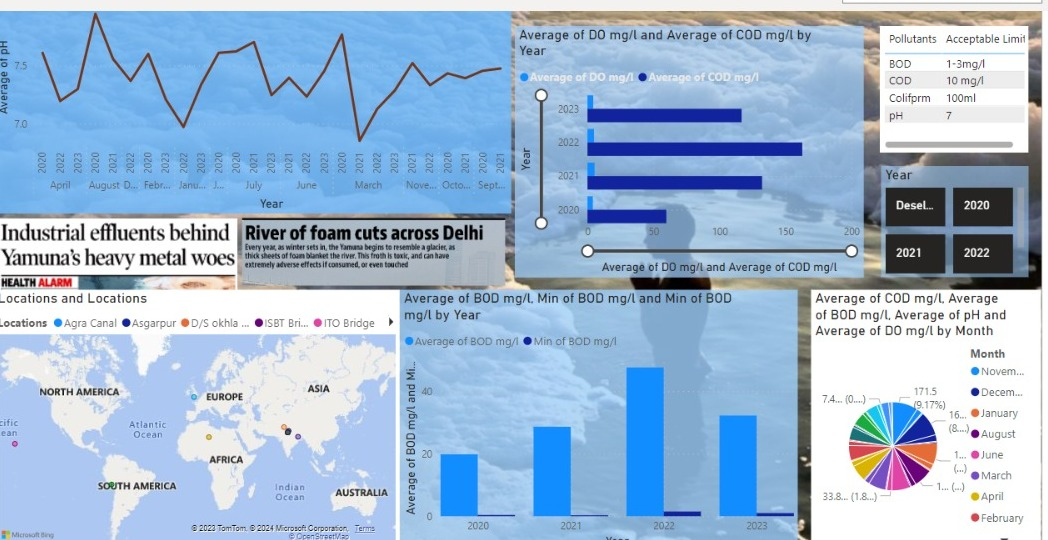

The dashboard page shown, as its layout file describes it:
{"tool":"powerbi","page":{"name":"Page 3","canvas":[1280,720],"ordinal":2},"visuals":[{"type":"image","box":[10.6,300,300,151.5],"z":0},{"type":"lineChart","fields":{"Y":["Avg(Dec.pH)"],"Category":["Dec.Month","Dec.Year"]},"box":[9.1,15.2,628.8,284.8],"z":1000},{"type":"clusteredColumnChart","fields":{"Y":["Avg(Dec.BOD mg/l)","Min(Dec.BOD mg/l)1","Min(Dec.BOD mg/l)1"],"Category":["Dec.Year"]},"box":[503,392,482,317],"z":2000},{"type":"tableEx","fields":{"Values":["Sheet3.Pollutants","Sheet3.Acceptable Limits"]},"box":[1084.8,72.7,180.3,153],"z":3000},{"type":"clusteredBarChart","fields":{"Category":["Dec.Year"],"Y":["Avg(Dec.DO mg/l)","Avg(Dec.COD mg/l)"]},"box":[642.4,72.7,422.7,304.5],"z":4000},{"type":"pieChart","fields":{"Y":["Avg(Dec.COD mg/l)","Avg(Dec.BOD mg/l)","Avg(Dec.pH)","Avg(Dec.DO mg/l)"],"Category":["Dec.Month","Dec.Year"]},"box":[1001.5,392.4,278.8,316.7],"z":5000},{"type":"advancedSlicerVisual","fields":{"Values":["Dec.Year"]},"box":[1085.7,242.3,178.7,134.8],"z":6000},{"type":"image","box":[304.5,300,333.3,92.4],"z":7000},{"type":"textbox","box":[660.6,15.2,619.7,50],"z":8000},{"type":"map","fields":{"Series":["Dec.Locations"],"Category":["Dec.Locations"]},"box":[10.6,392.2,492.1,316.5],"z":9000}]}

Visuals, with their boxes on the page's 1280x720 design canvas (x1, y1, x2, y2). These are canvas units, not pixel positions in the 1048x540 screenshot, which may show the page scaled, cropped or inside an application window:
image: bbox=[11, 300, 311, 452]
lineChart - Avg(Dec.pH) x Dec.Month: bbox=[9, 15, 638, 300]
clusteredColumnChart - Avg(Dec.BOD mg/l) x Min(Dec.BOD mg/l)1: bbox=[503, 392, 985, 709]
tableEx - Sheet3.Pollutants x Sheet3.Acceptable Limits: bbox=[1085, 73, 1265, 226]
clusteredBarChart - Dec.Year x Avg(Dec.DO mg/l): bbox=[642, 73, 1065, 377]
pieChart - Avg(Dec.COD mg/l) x Avg(Dec.BOD mg/l): bbox=[1002, 392, 1280, 709]
advancedSlicerVisual - Dec.Year: bbox=[1086, 242, 1264, 377]
image: bbox=[304, 300, 638, 392]
textbox: bbox=[661, 15, 1280, 65]
map - Dec.Locations x Dec.Locations: bbox=[11, 392, 503, 709]
